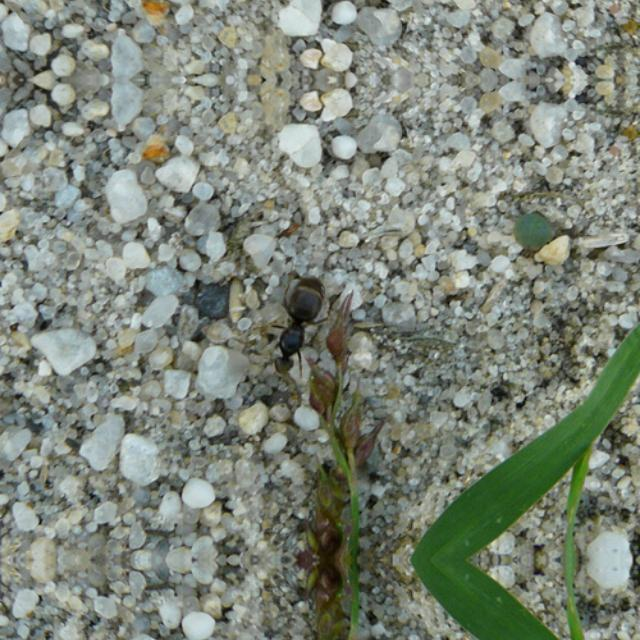Lasius: (228, 254, 350, 382)
